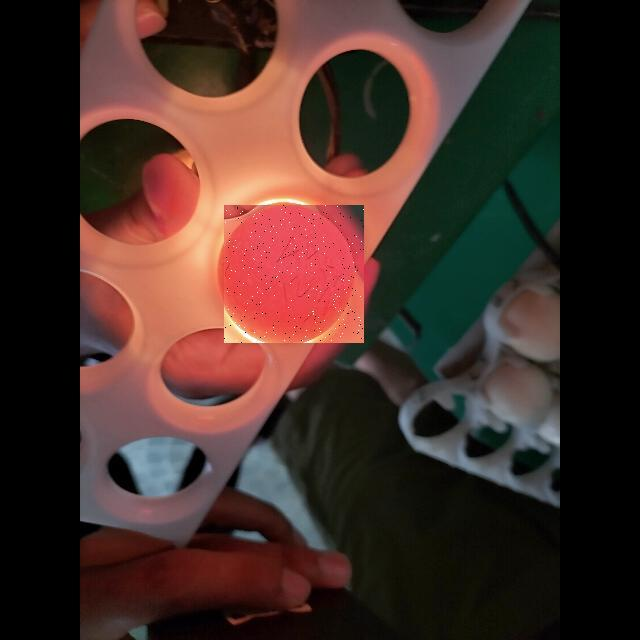Infertile: (224, 205, 364, 343)
